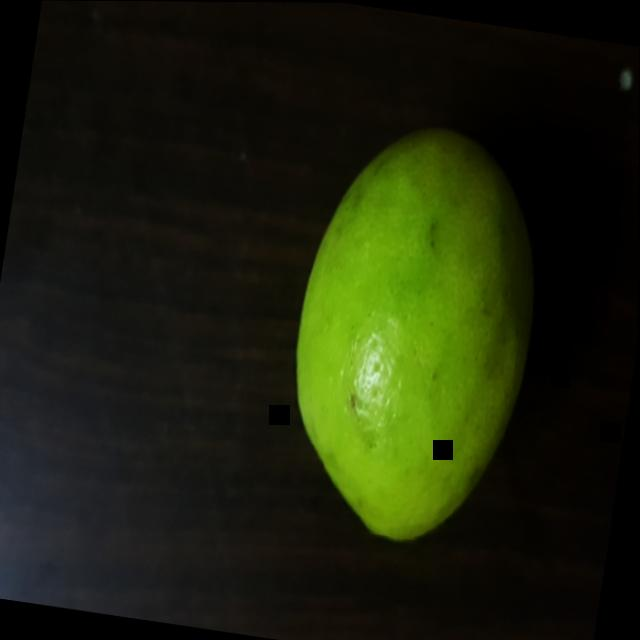lemon: (267, 104, 574, 561)
